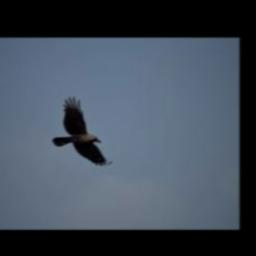Crow: (52, 96, 106, 166)
